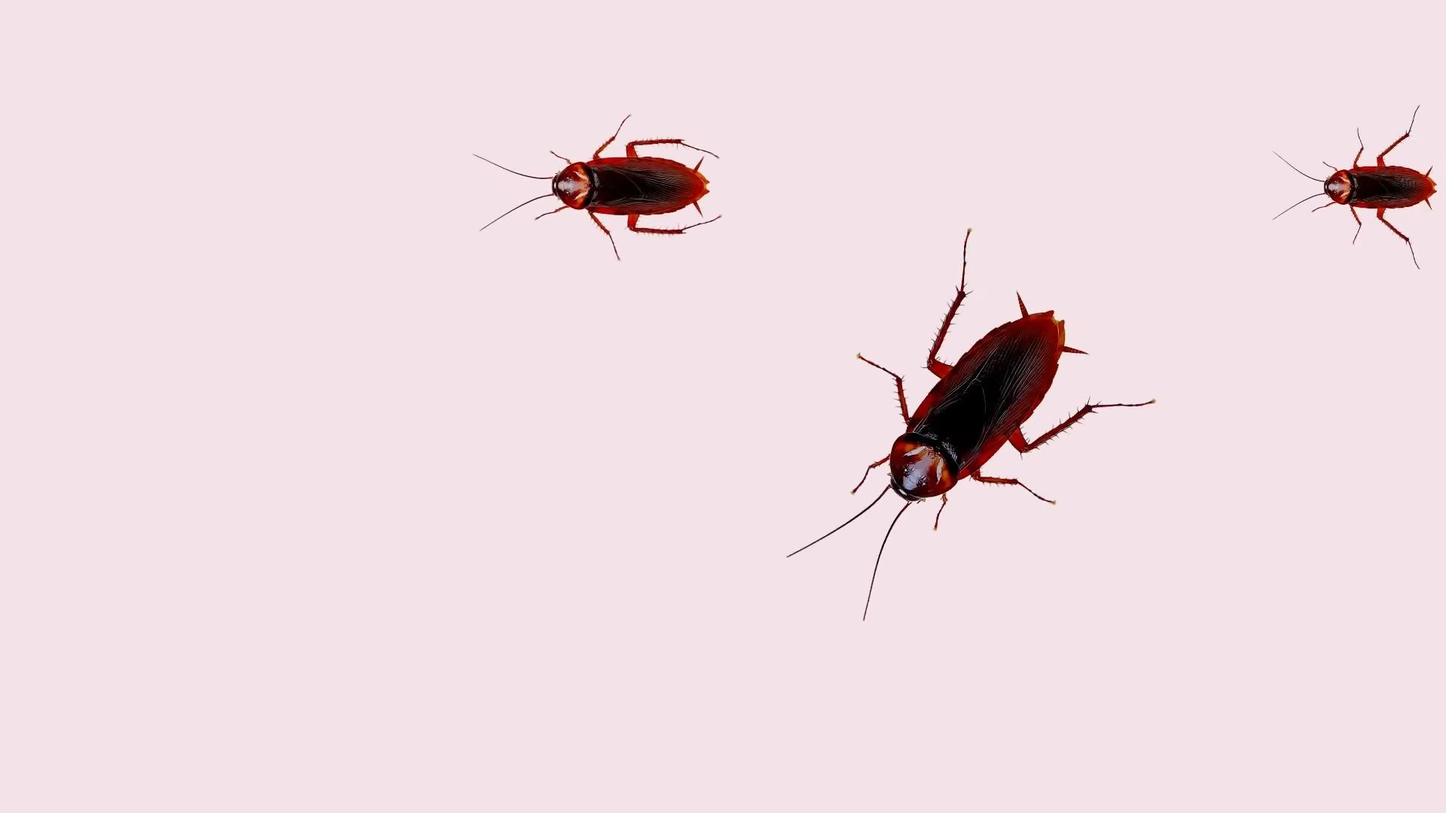cockroach: (868, 254, 1076, 517), (471, 125, 722, 235), (1271, 143, 1436, 249)
